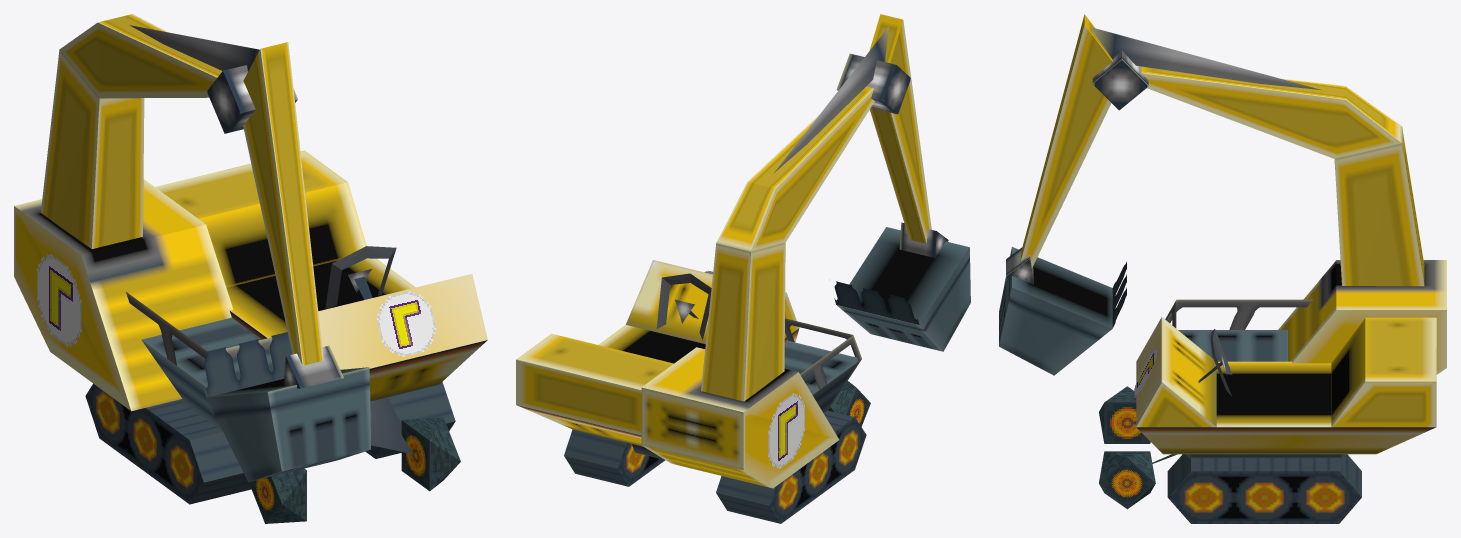
File: Gold Mantis.obj
The picture shows the model from 3 angles, left to right: view 1: azimuth 30°, elevation 25°; view 2: azimuth 150°, elevation 25°; view 3: azimuth 270°, elevation 25°; orthographic projection. The views are drawn at different scales.
Parts seen in each view (by area): view 1: polygon1, polygon2, polygon0; view 2: polygon1, polygon2, polygon0; view 3: polygon1, polygon0.
Part boxes in pixels (x1=…): polygon1: x1=14, y1=14, x2=487, y2=504; polygon2: x1=37, y1=253, x2=436, y2=356; polygon0: x1=249, y1=417, x2=460, y2=523; polygon1: x1=516, y1=14, x2=970, y2=523; polygon2: x1=704, y1=270, x2=804, y2=468; polygon0: x1=828, y1=381, x2=870, y2=426; polygon1: x1=999, y1=14, x2=1446, y2=523; polygon0: x1=1099, y1=386, x2=1155, y2=509.
Size of the model in its own units: 0.9692 by 1.57 by 1.55.
